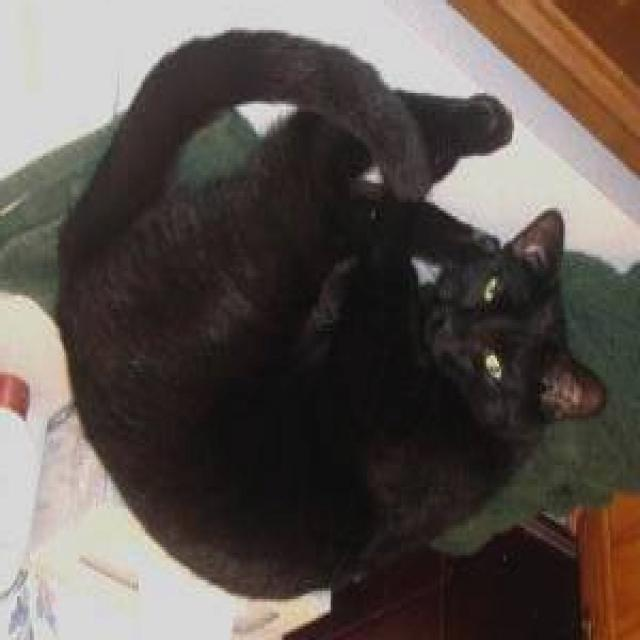Kucing: (26, 47, 637, 576)
